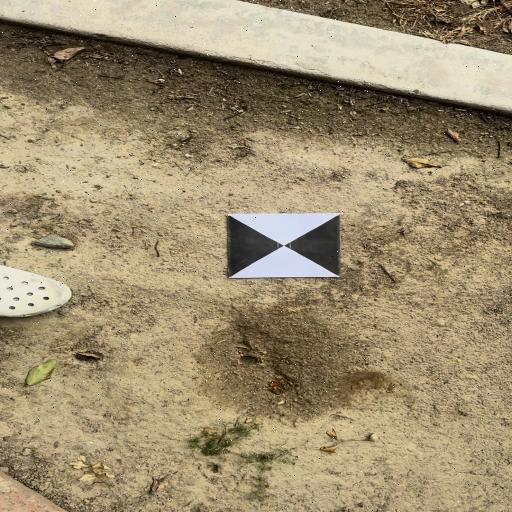target: (228, 214, 342, 278)
